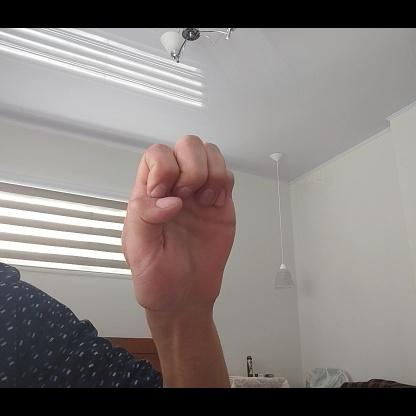E: (121, 132, 238, 316)
